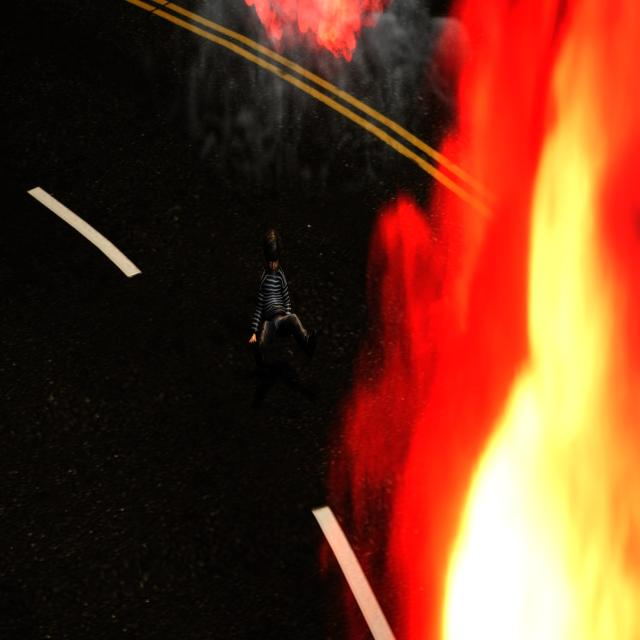Human: (245, 228, 321, 368)
